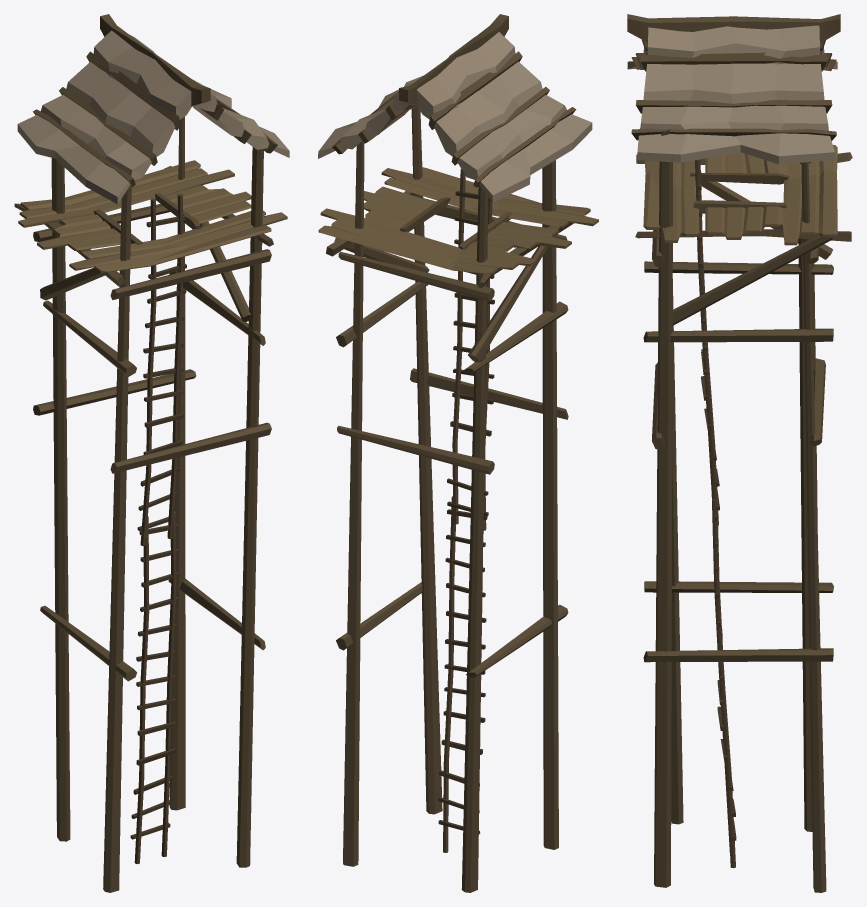
File: SM_Bld_Rickety_Tower_03.glb
3 renders of one model, left to right at view 1: azimuth 30°, elevation 25°; view 2: azimuth 150°, elevation 25°; view 3: azimuth 270°, elevation 25°, orthographic. The views are drawn at different scales.
Parts seen in each view (by area): view 1: SM_Bld_Rickety_Tower_03; view 2: SM_Bld_Rickety_Tower_03; view 3: SM_Bld_Rickety_Tower_03.
Boxes of the visible parts, x1,y1,x2,y2 form: SM_Bld_Rickety_Tower_03: [14, 14, 289, 892]; SM_Bld_Rickety_Tower_03: [318, 14, 598, 892]; SM_Bld_Rickety_Tower_03: [627, 14, 852, 892].
Bounding box in the file's own units: 0.0406 × 0.1426 × 0.0344.
